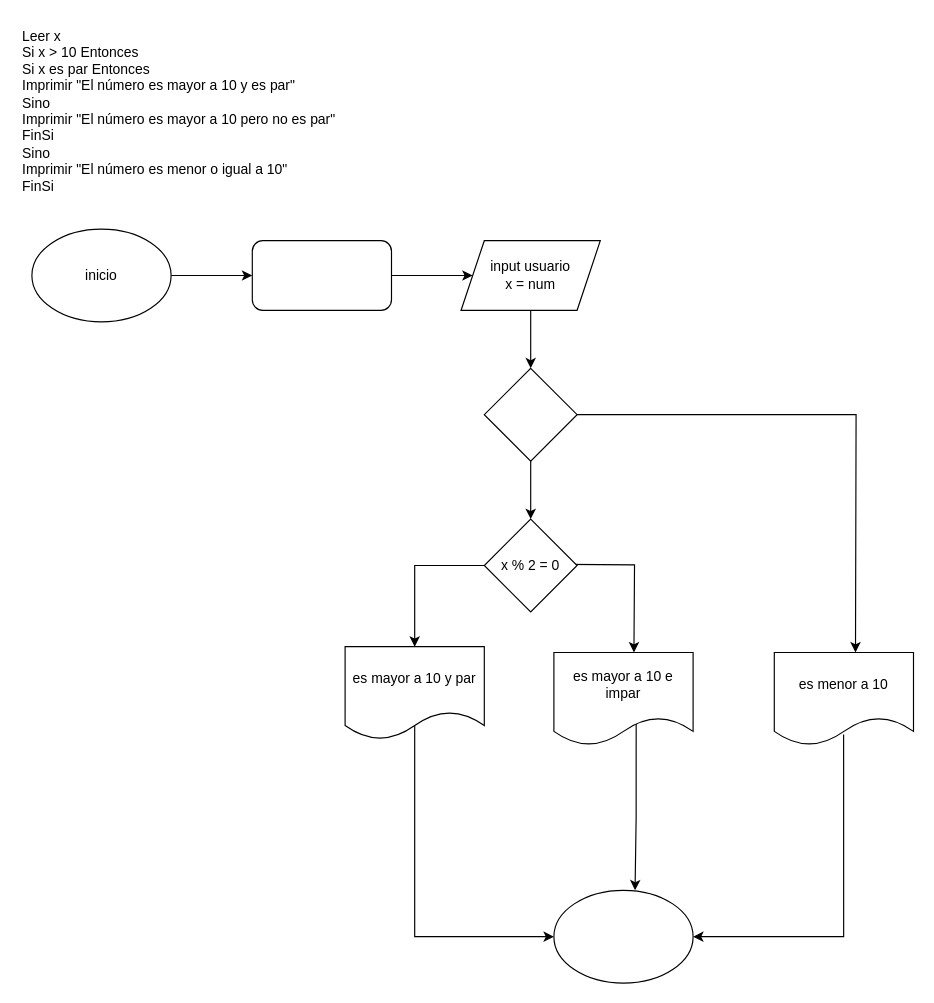
Some shapes in this 934 by 1003 pixel diagram are drawn without their labels. The centre of each missing label's shape, as x and y in pixels:
fin: point (623, 936)
ingresar num: point (321, 275)
x > 10: point (530, 414)
